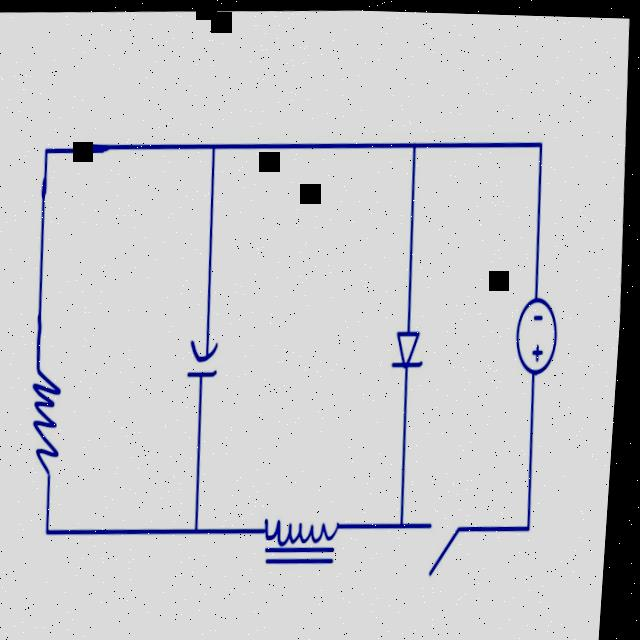capacitor: (176, 306, 243, 398)
diode: (380, 305, 439, 378)
inductor: (254, 472, 361, 589)
resistor: (8, 332, 104, 504)
source: (510, 284, 564, 383)
switch: (411, 491, 482, 573)
